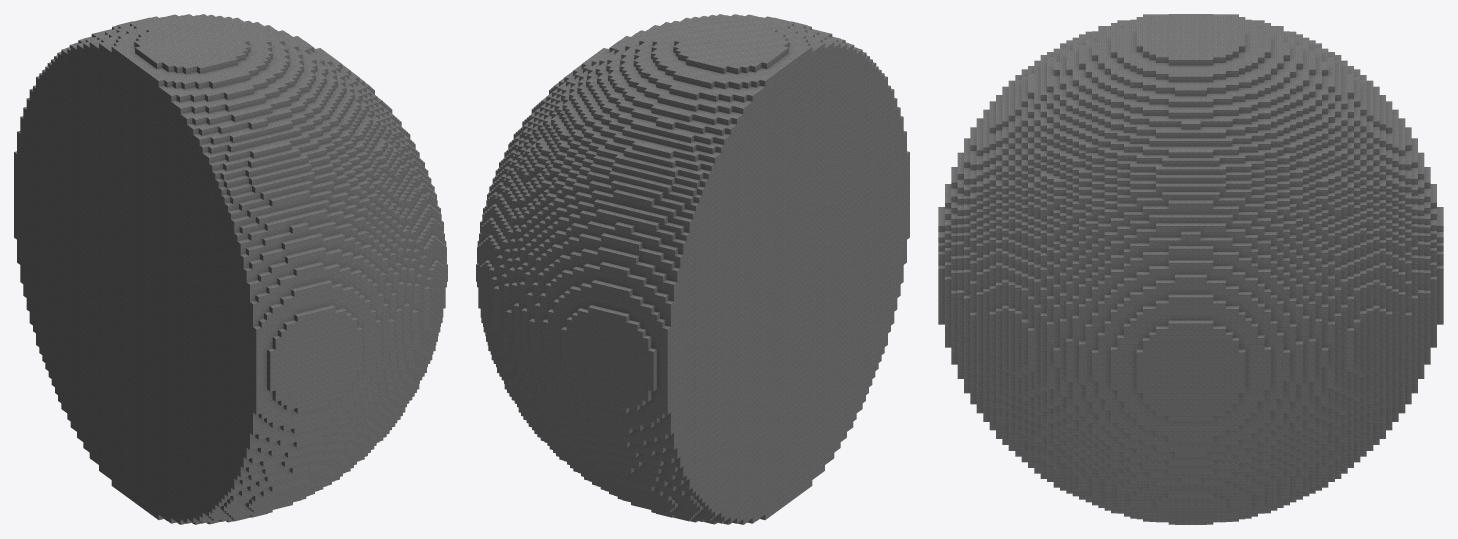
The picture shows the model from 3 angles, left to right: view 1: azimuth 30°, elevation 25°; view 2: azimuth 150°, elevation 25°; view 3: azimuth 270°, elevation 25°; orthographic projection.
Size of the model in its own units: 50 by 79 by 79.
1 material, 1 textured.
